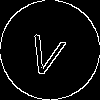V: (25, 25, 70, 78)
